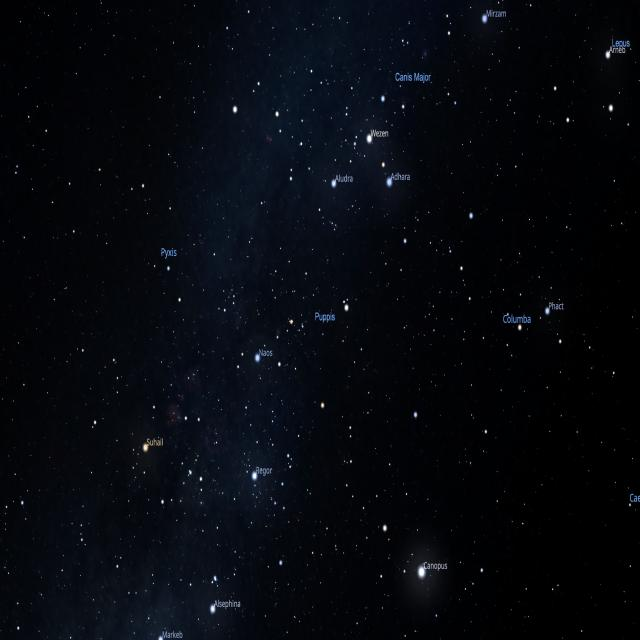Puppis: (230, 99, 427, 640)
